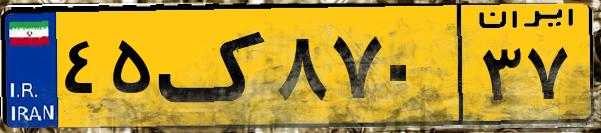0: (385, 28, 445, 110)
3: (475, 38, 525, 113)
4: (57, 26, 110, 100)
5: (110, 28, 158, 98)
7: (330, 28, 385, 110), (525, 38, 570, 115)
8: (270, 28, 330, 110)
ک: (158, 12, 270, 120)
